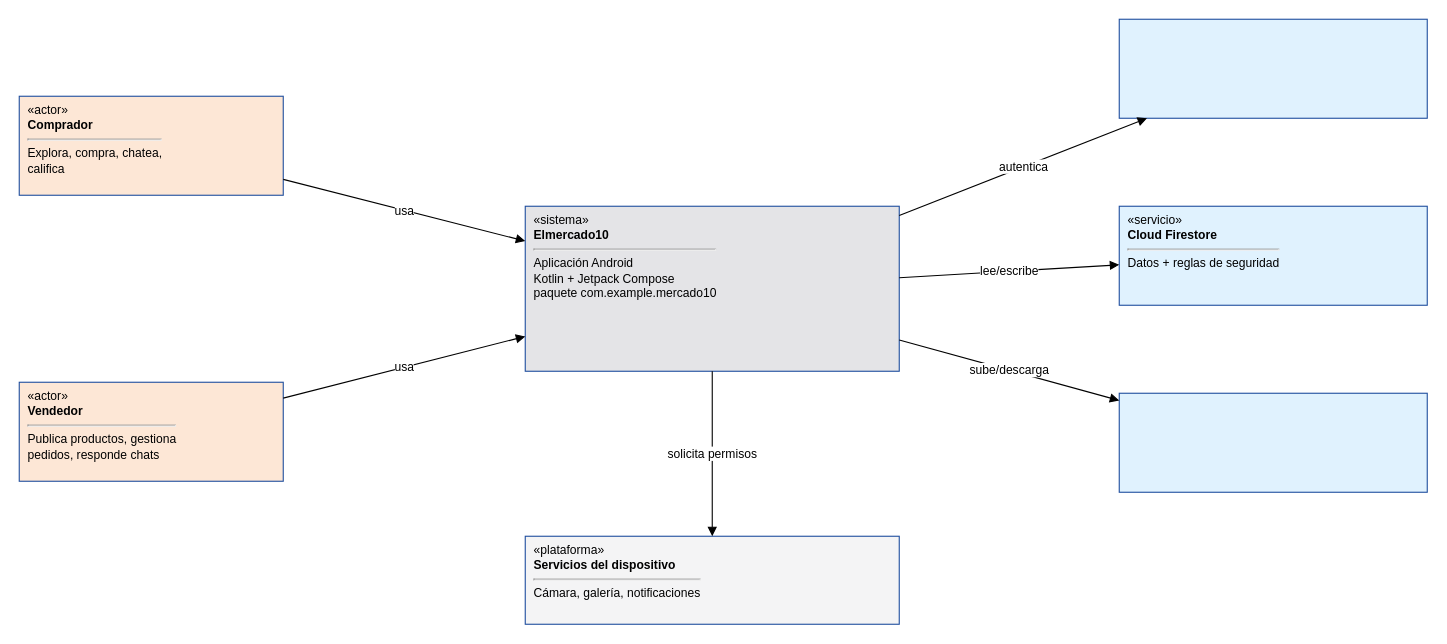
Some shapes in this 1447 by 644 pixel diagram are drawn without their labels. The shapes that lost their labels are listed below. From the top down, each one's centre as x and y in pixels, then its label:
the point at 1272,68: «servicio» Firebase Authentication Correo y contraseña
the point at 1272,442: «servicio» Firebase Storage Imágenes de productos y perfil
